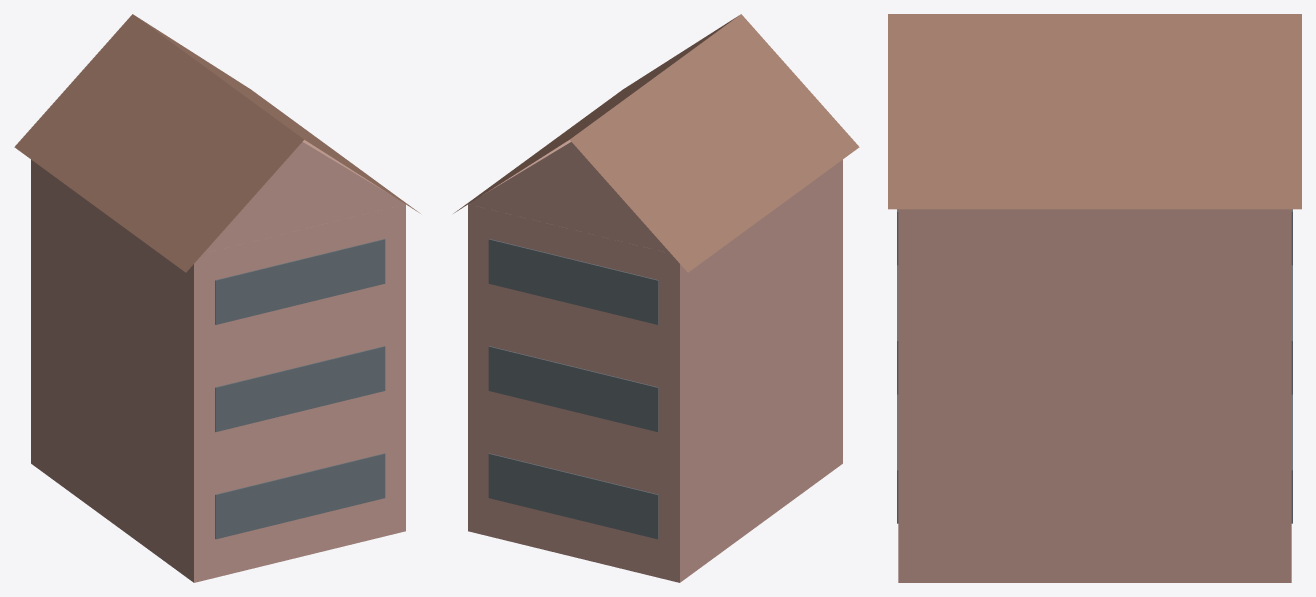
The model's file is cove-house-salmon.coast-v2.lod2.glb.
The picture shows the model from 3 angles, left to right: view 1: azimuth 30°, elevation 25°; view 2: azimuth 150°, elevation 25°; view 3: azimuth 270°, elevation 25°; orthographic projection. The views are drawn at different scales.
Visible parts, largest first — view 1: cove-house-salmon; view 2: cove-house-salmon; view 3: cove-house-salmon.
Part boxes in pixels (<box>): cove-house-salmon: <box>14,14,420,582</box>; cove-house-salmon: <box>453,14,859,582</box>; cove-house-salmon: <box>888,14,1301,582</box>.
Size of the model in its own units: 6.7 by 11.38 by 8.42.
